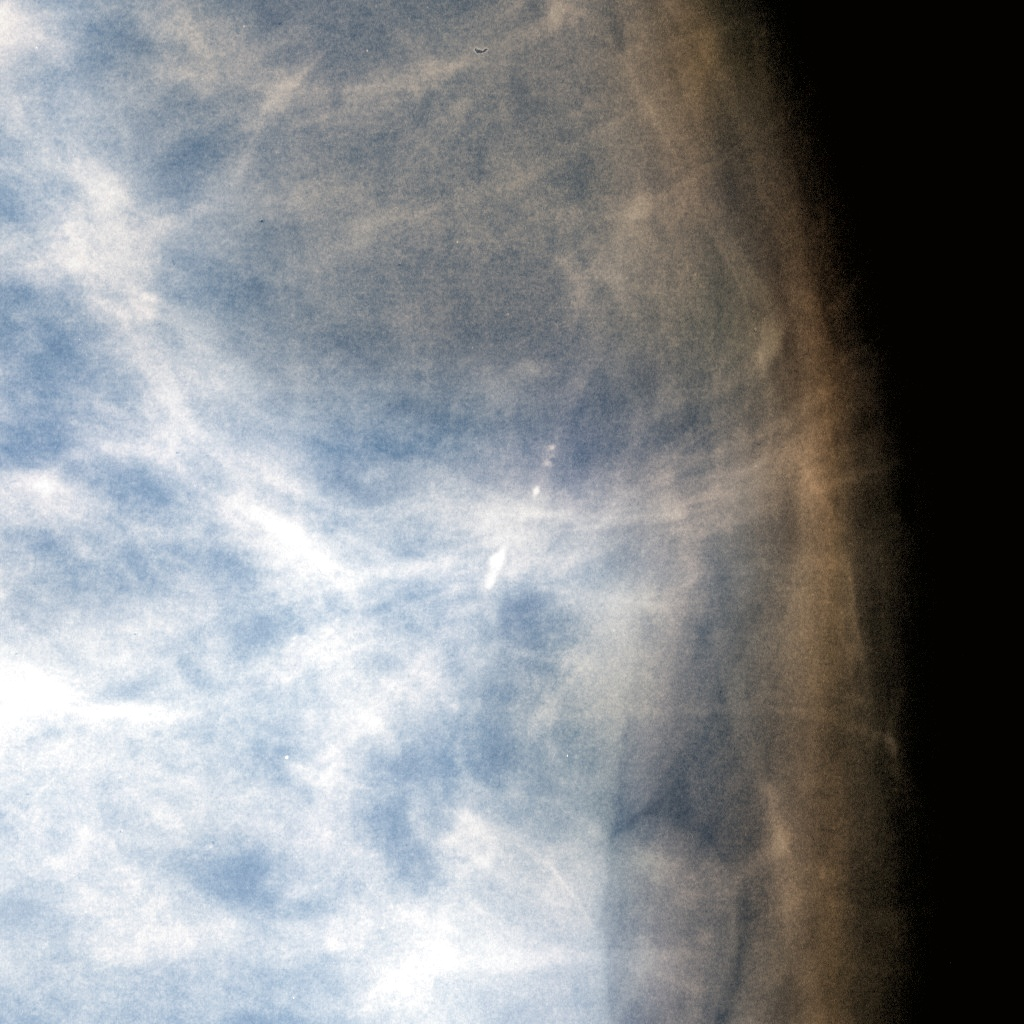tumor: (444, 389, 580, 635)
